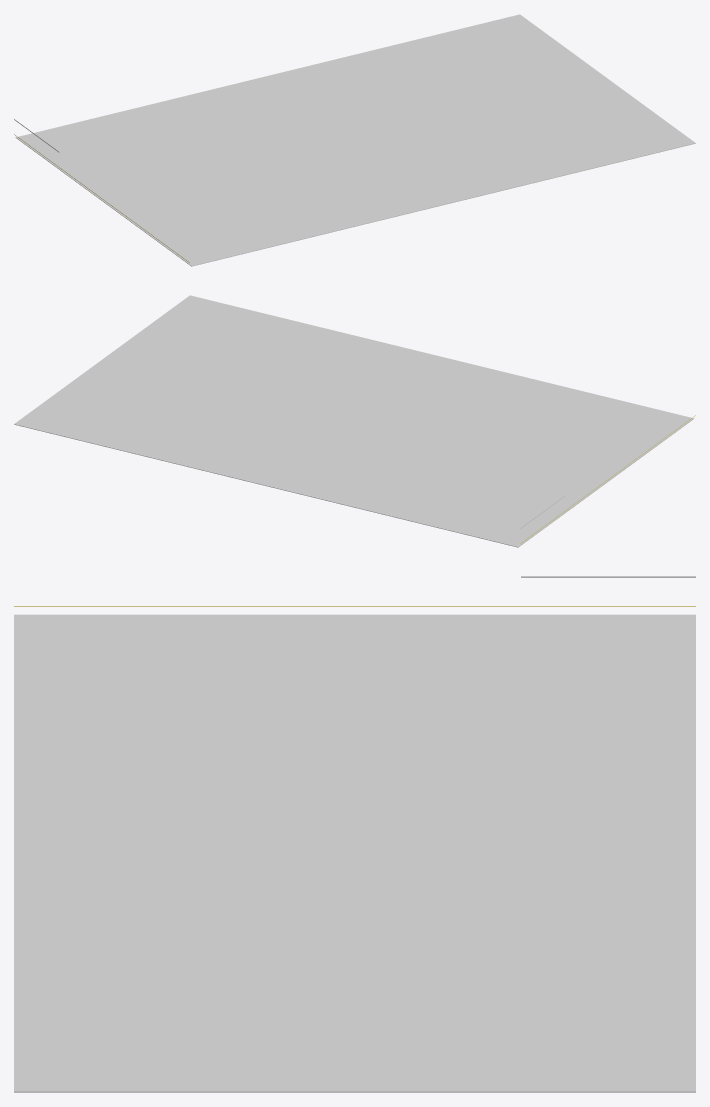
File: testmeishi.glb
The picture shows the model from 3 angles, top to bottom: view 1: azimuth 30°, elevation 25°; view 2: azimuth 150°, elevation 25°; view 3: azimuth 270°, elevation 25°; orthographic projection. The views are drawn at different scales.
Visible parts, largest first — view 1: 平面; view 2: 平面; view 3: 平面.
Part boxes in pixels (x1,y1,x2,y2): 平面: [15, 14, 695, 266]; 平面: [14, 295, 694, 547]; 平面: [14, 614, 695, 1092].
Bounding box in the file's own units: 1.83 × 0.0669 × 1.1.
Materials: 3 (1 with a texture image).
